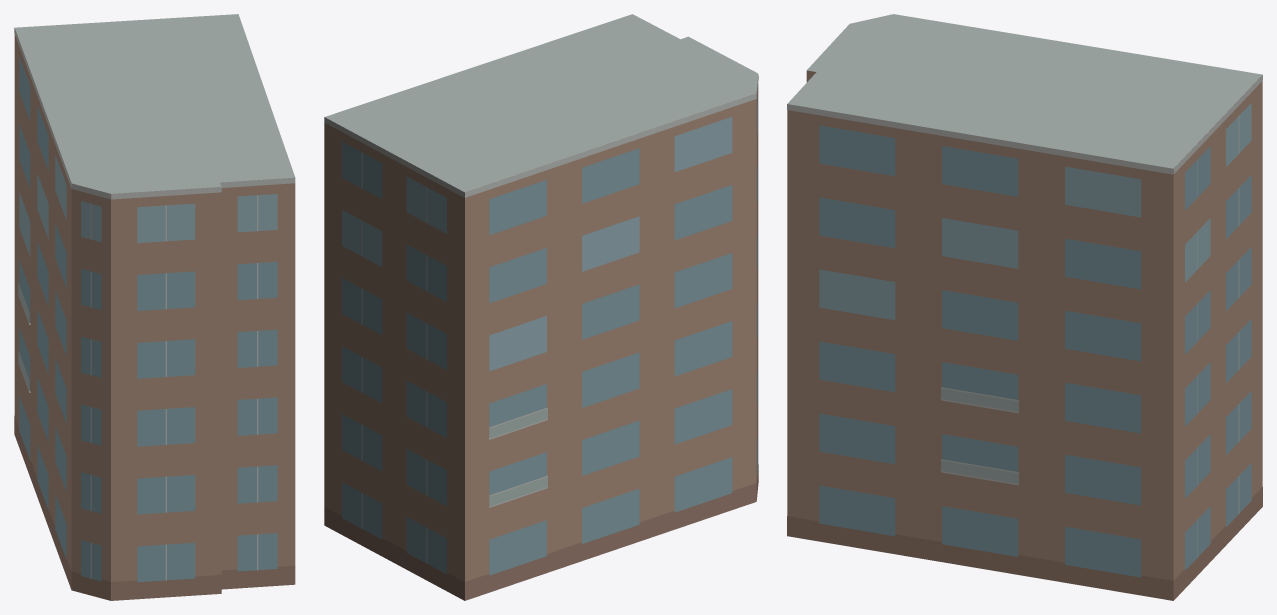
The model's file is survey-upis-32528402.glb.
3 renders of one model, left to right at view 1: azimuth 30°, elevation 25°; view 2: azimuth 150°, elevation 25°; view 3: azimuth 270°, elevation 25°, orthographic. The views are drawn at different scales.
Parts seen in each view (by area): view 1: survey-upis-32528402.tmp; view 2: survey-upis-32528402.tmp; view 3: survey-upis-32528402.tmp.
Boxes of the visible parts, left/top/right/bottom form: survey-upis-32528402.tmp: left=14, top=14, right=295, bottom=600; survey-upis-32528402.tmp: left=324, top=14, right=758, bottom=600; survey-upis-32528402.tmp: left=787, top=14, right=1262, bottom=600.
Bounding box in the file's own units: 13.76 × 17.9 × 17.87.
